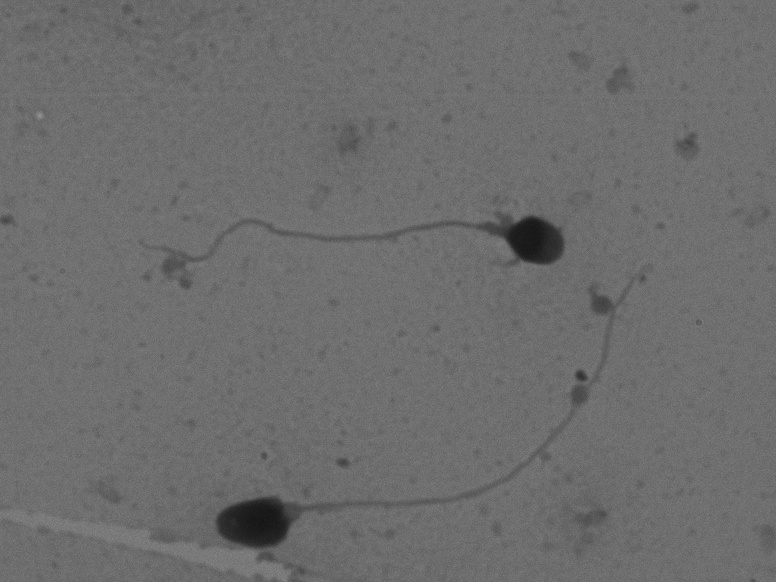Abnormal: (184, 331, 650, 570), (111, 159, 593, 316)
